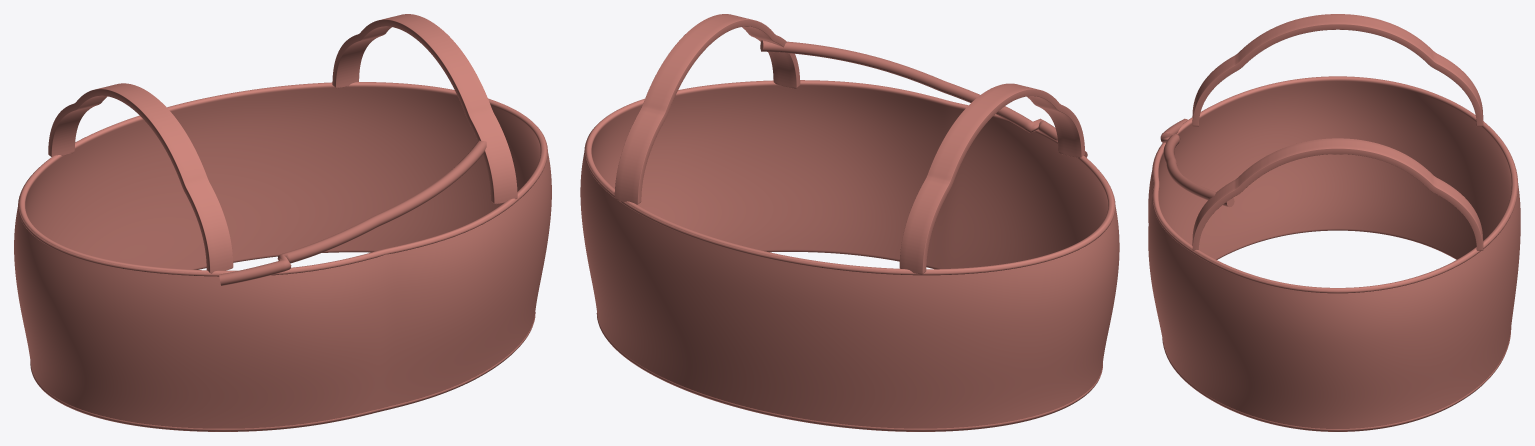
File: Feminine-strappy-top.glb
3 renders of one model, left to right at view 1: azimuth 30°, elevation 25°; view 2: azimuth 150°, elevation 25°; view 3: azimuth 270°, elevation 25°, orthographic. The views are drawn at different scales.
Parts seen in each view (by area): view 1: Clothing / strappy body, Clothing / strappy shoulder strap -1, Clothing / strappy shoulder strap 1, Crop / continuous diagonal strap export, strappy body stitched edge.001 export, strappy body stitched edge export; view 2: Clothing / strappy body, Clothing / strappy shoulder strap -1, Clothing / strappy shoulder strap 1, Crop / continuous diagonal strap export, strappy body stitched edge.001 export, strappy body stitched edge export; view 3: Clothing / strappy body, Clothing / strappy shoulder strap -1, Clothing / strappy shoulder strap 1, strappy body stitched edge.001 export, Crop / continuous diagonal strap export, strappy body stitched edge export.
Part boxes in pixels (left/top/right/bottom): Clothing / strappy body: left=14, top=82, right=551, bottom=431; Clothing / strappy shoulder strap -1: left=48, top=83, right=233, bottom=273; Clothing / strappy shoulder strap 1: left=332, top=14, right=517, bottom=204; Crop / continuous diagonal strap export: left=219, top=140, right=486, bottom=285; strappy body stitched edge.001 export: left=18, top=126, right=547, bottom=276; strappy body stitched edge export: left=30, top=312, right=535, bottom=431; Clothing / strappy body: left=580, top=80, right=1119, bottom=431; Clothing / strappy shoulder strap -1: left=899, top=83, right=1084, bottom=274; Clothing / strappy shoulder strap 1: left=614, top=14, right=800, bottom=204; Crop / continuous diagonal strap export: left=760, top=40, right=1087, bottom=157; strappy body stitched edge.001 export: left=584, top=127, right=1115, bottom=275; strappy body stitched edge export: left=596, top=313, right=1102, bottom=431; Clothing / strappy body: left=1148, top=76, right=1520, bottom=431; Clothing / strappy shoulder strap -1: left=1192, top=14, right=1483, bottom=126; Clothing / strappy shoulder strap 1: left=1192, top=138, right=1483, bottom=250; strappy body stitched edge.001 export: left=1152, top=131, right=1518, bottom=293; Crop / continuous diagonal strap export: left=1160, top=118, right=1234, bottom=207; strappy body stitched edge export: left=1162, top=327, right=1511, bottom=431.
Bounding box in the file's own units: 0.7245 × 0.3877 × 0.5241.
